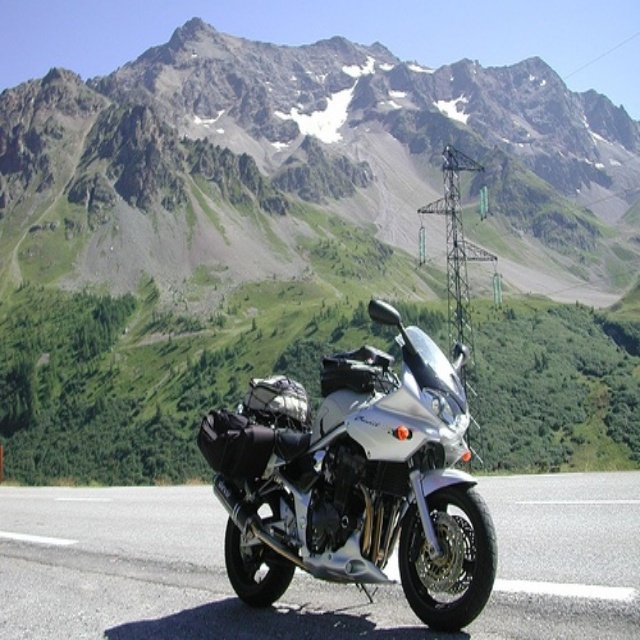Motorcycle: (198, 300, 498, 635)
